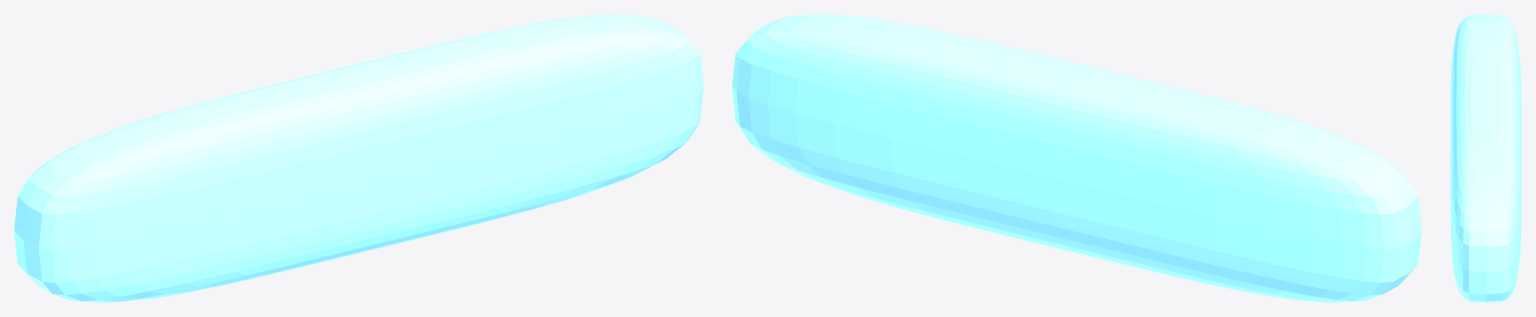
File: rear_status_light.glb
3 views of the same model, side by side, from view 1: azimuth 30°, elevation 25°; view 2: azimuth 150°, elevation 25°; view 3: azimuth 270°, elevation 25° (orthographic). The views are drawn at different scales.
Parts seen in each view (by area): view 1: rear_status_light; view 2: rear_status_light; view 3: rear_status_light.
Boxes of the visible parts, x1,y1,x2,y2 form: rear_status_light: (14,14,703,302); rear_status_light: (732,14,1421,302); rear_status_light: (1450,14,1521,302).
Size of the model in its own units: 21 by 5 by 2.8.
